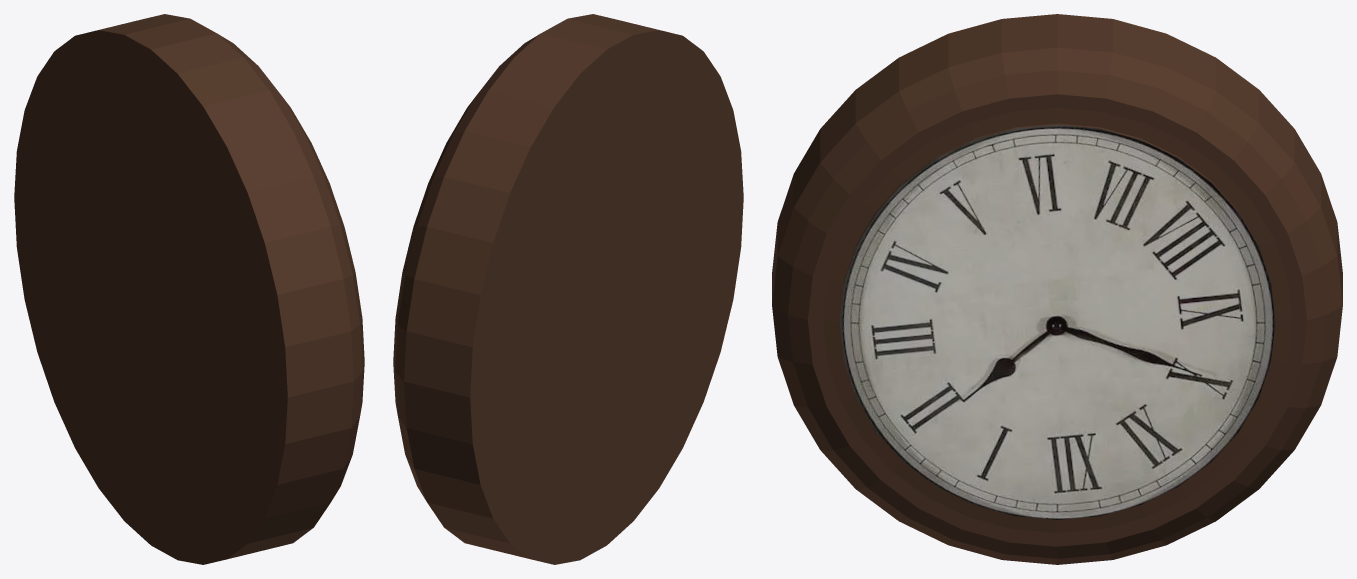
Rendered from clock.fbx.
The picture shows the model from 3 angles, left to right: view 1: azimuth 30°, elevation 25°; view 2: azimuth 150°, elevation 25°; view 3: azimuth 270°, elevation 25°; orthographic projection. The views are drawn at different scales.
Parts seen in each view (by area): view 1: Clock; view 2: Clock; view 3: Clock.
Boxes of the visible parts, left/top/right/bottom form: Clock: left=14, top=14, right=364, bottom=564; Clock: left=393, top=14, right=743, bottom=564; Clock: left=772, top=14, right=1342, bottom=564.
Size of the model in its own units: 24.76 by 120 by 120.
Materials: 2 (1 with a texture image).
